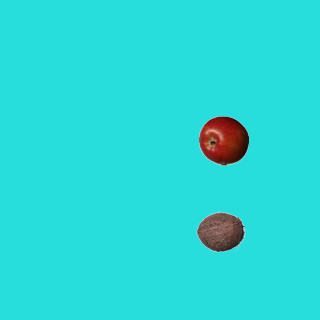Apple Braeburn: (198, 115, 248, 165)
Cocos: (195, 206, 245, 256)
